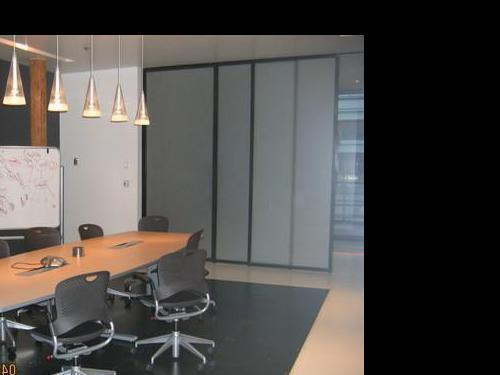Otro Obstaculo: (0, 138, 64, 242)
